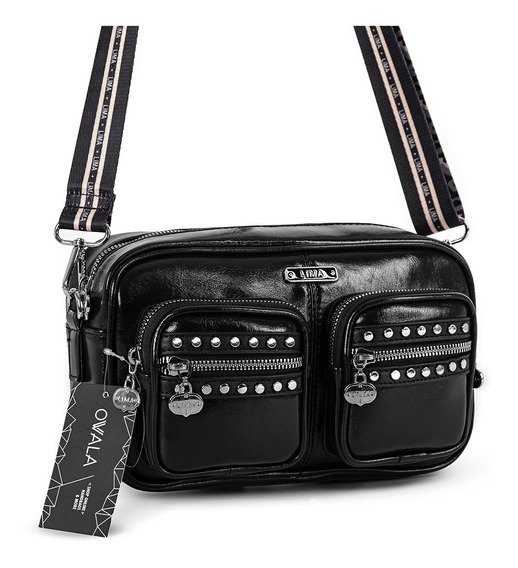cartera: (50, 22, 484, 494)
